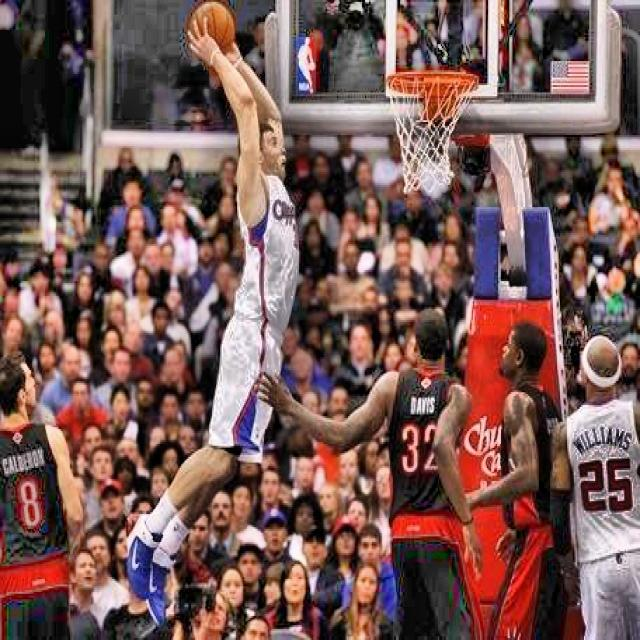board: (189, 1, 235, 54)
rim: (385, 71, 481, 197)
